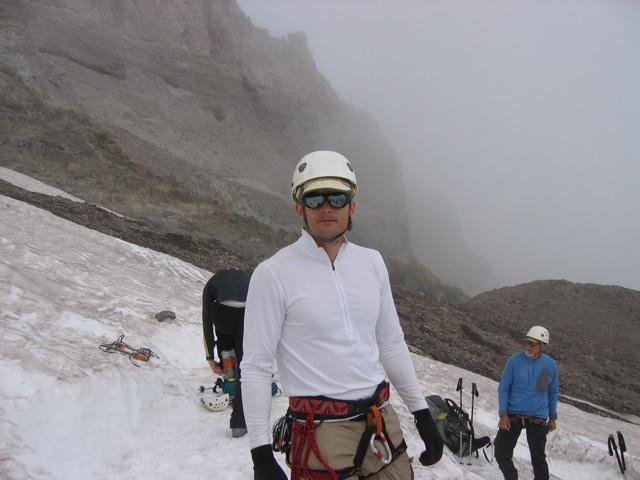helmet: (286, 147, 360, 203), (198, 387, 230, 414), (523, 322, 554, 346)
